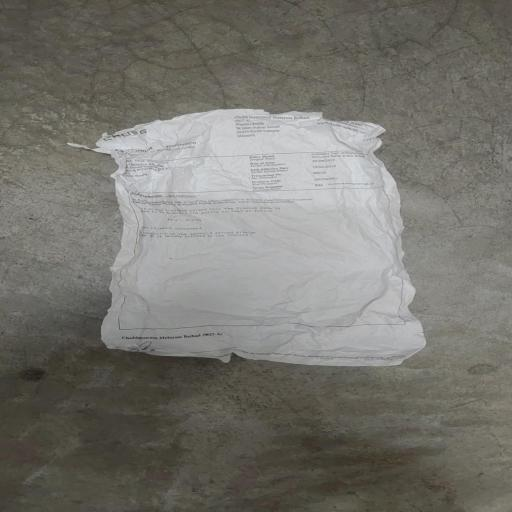paper: (91, 108, 430, 369)
